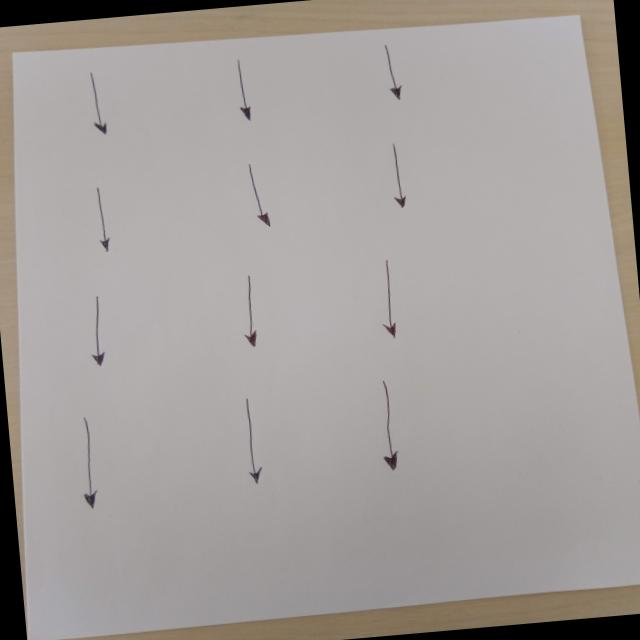arrow_line_down: (230, 394, 278, 494), (363, 378, 413, 470), (66, 419, 109, 515), (78, 285, 124, 370), (372, 255, 414, 348), (232, 268, 274, 354), (236, 159, 282, 234), (75, 63, 118, 139), (384, 138, 423, 214), (368, 42, 414, 106), (218, 56, 260, 121), (86, 188, 128, 252)
